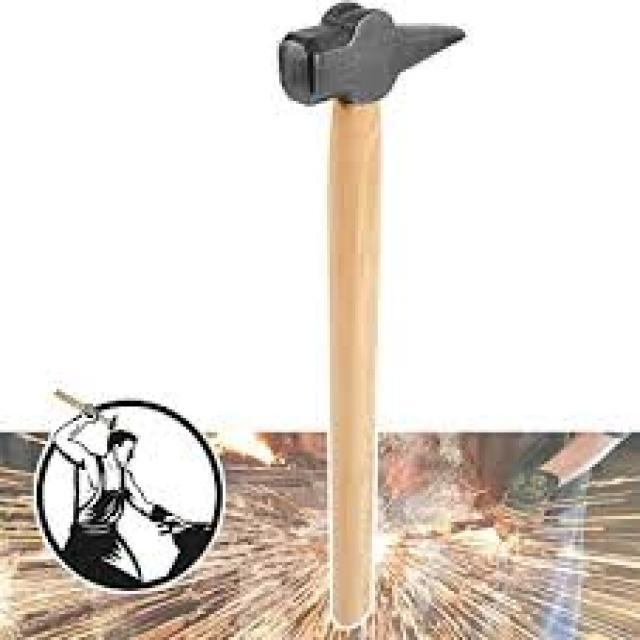hammer: (269, 0, 478, 634), (46, 378, 122, 438)
